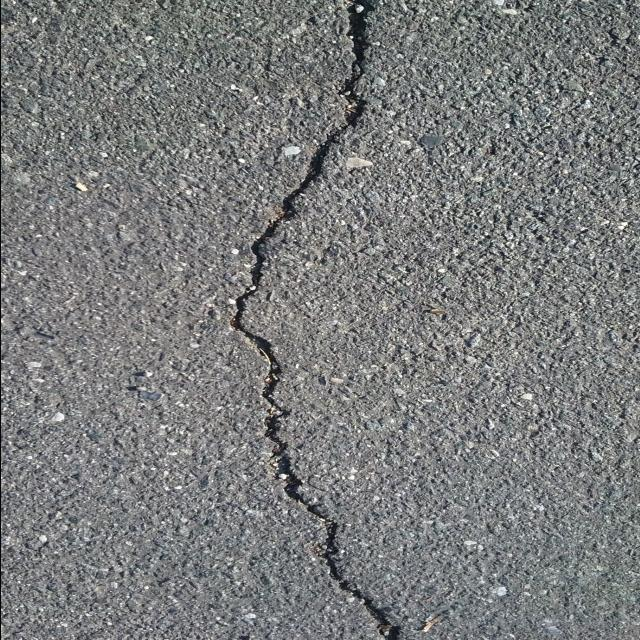Crack: (229, 0, 399, 640)
